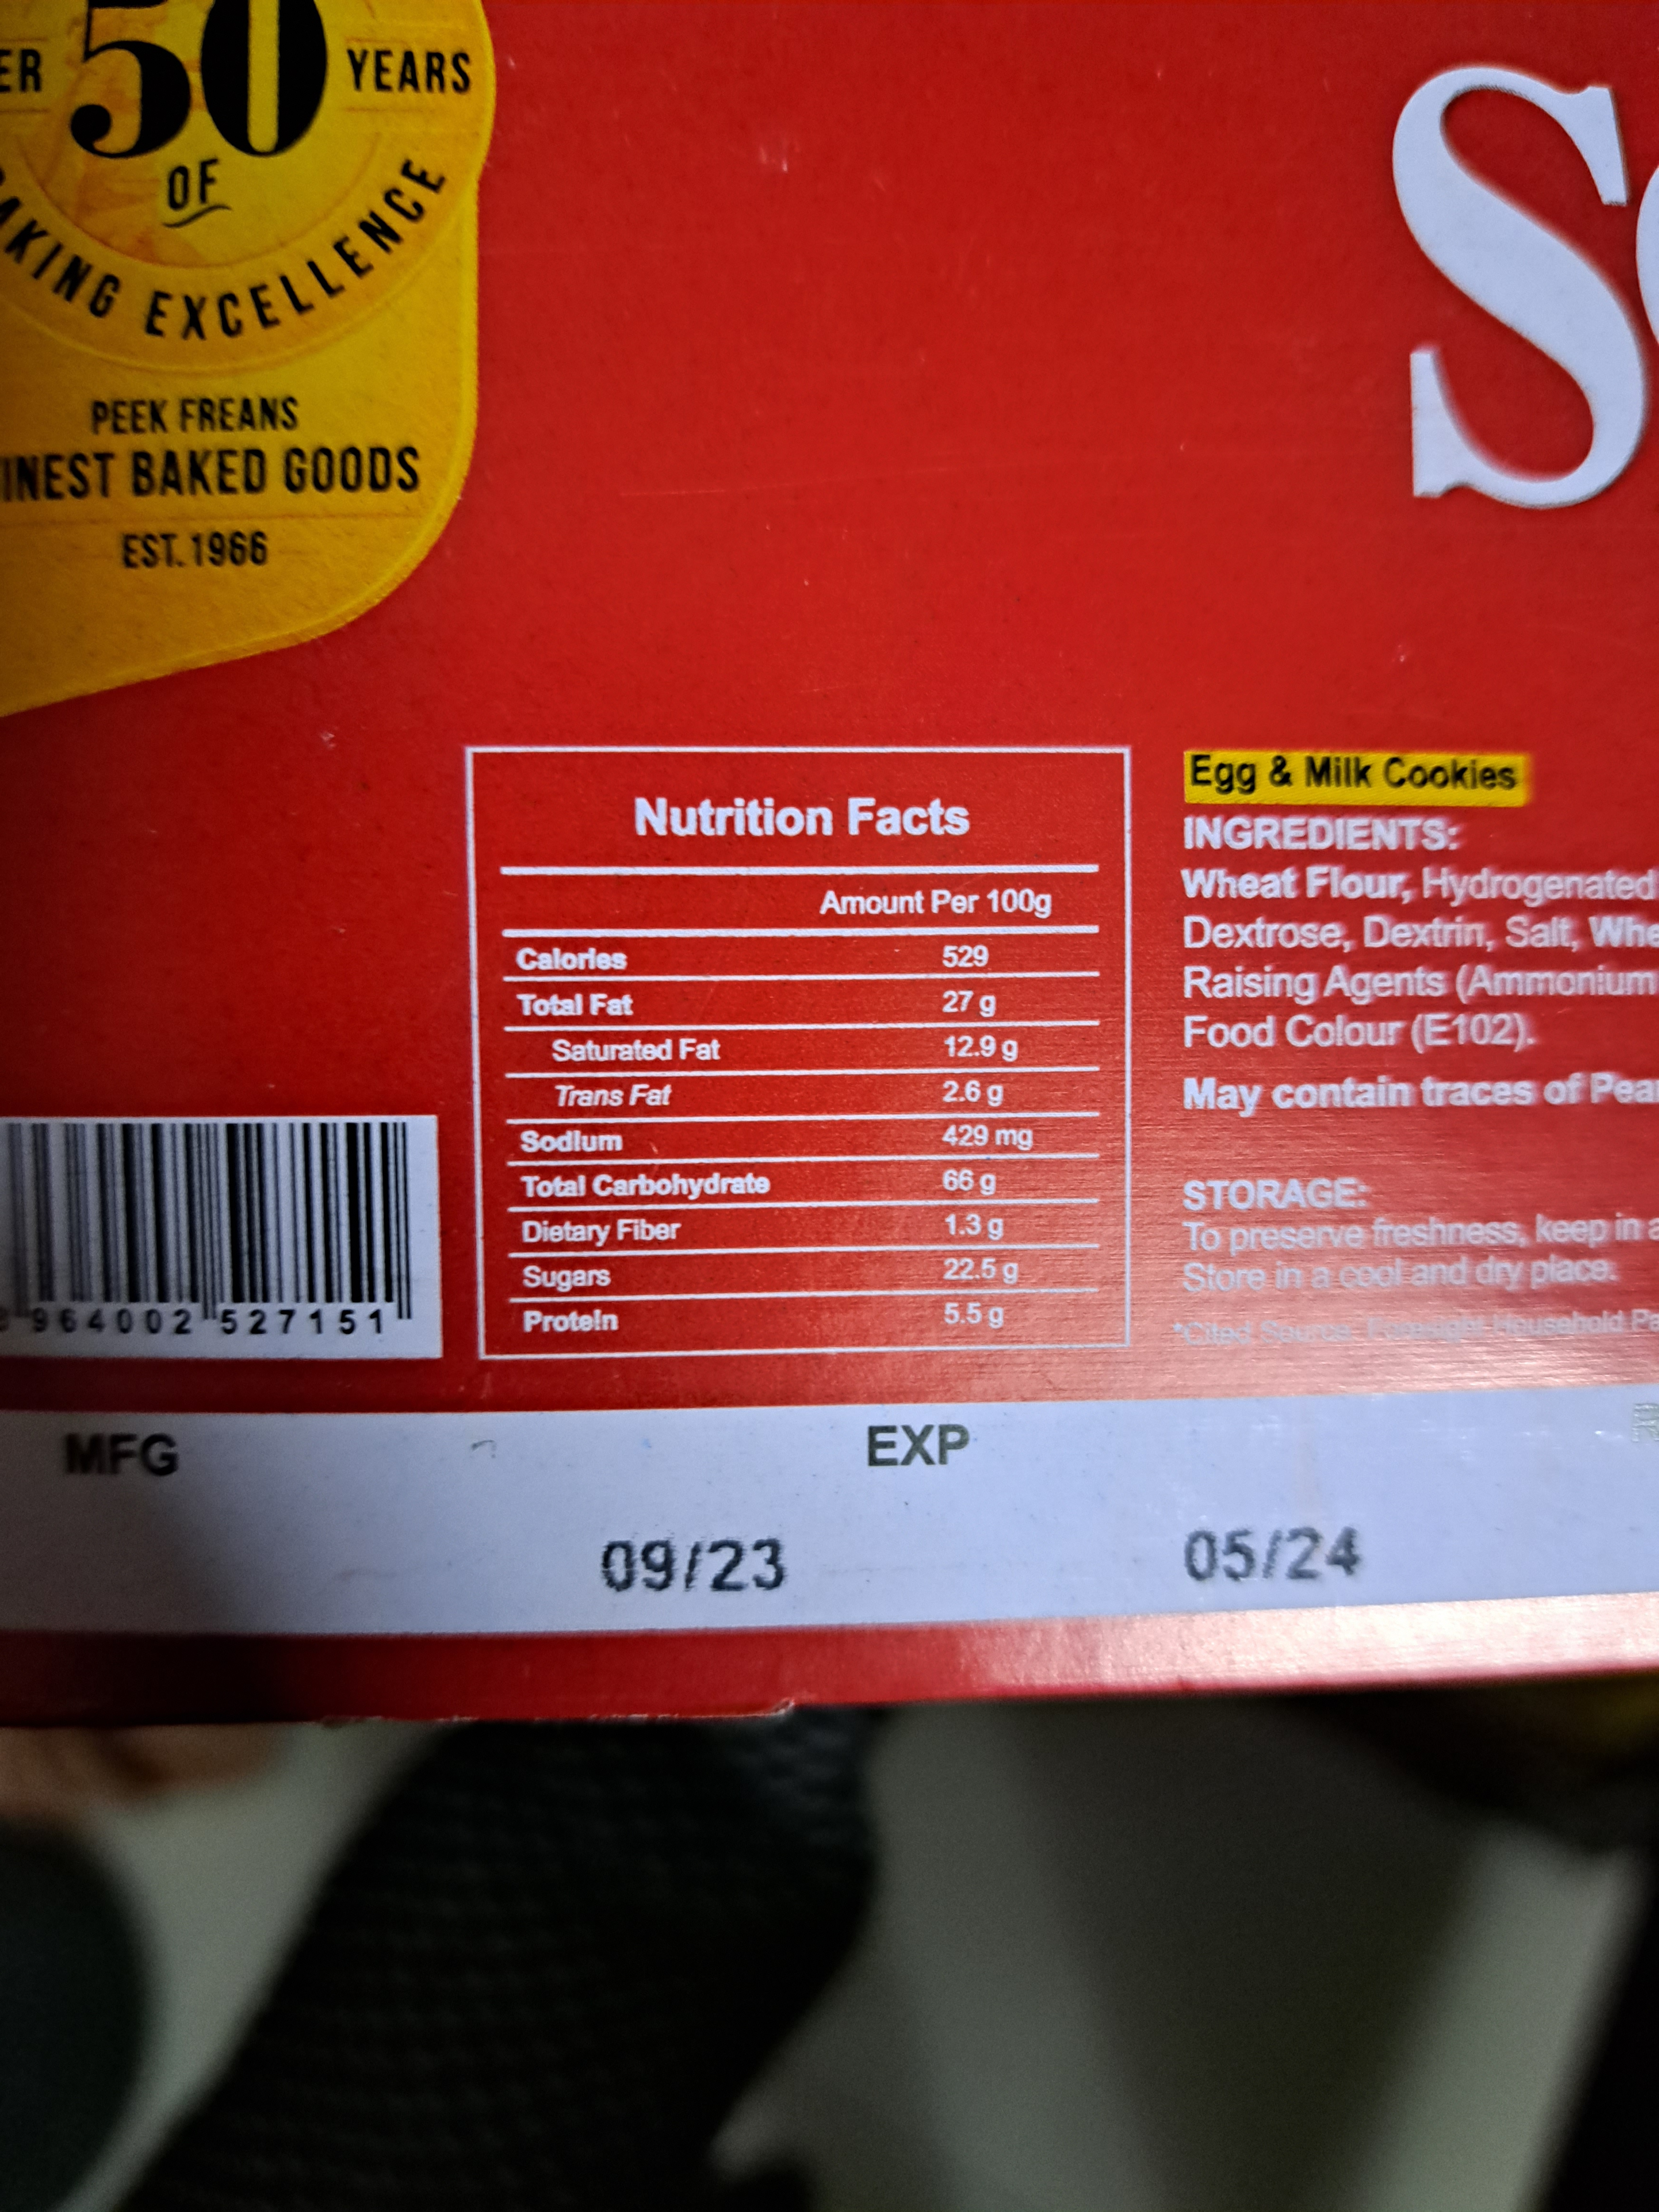table: (460, 738, 1141, 1355)
